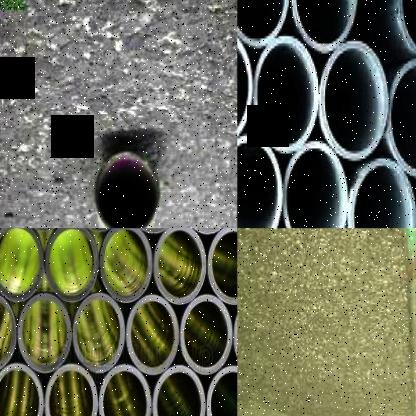pipe: (319, 41, 388, 160), (253, 36, 318, 152), (283, 143, 348, 228), (94, 150, 158, 228), (349, 159, 416, 228), (126, 294, 179, 376), (18, 292, 71, 374), (180, 294, 233, 374), (73, 292, 125, 373), (152, 228, 206, 304), (237, 135, 281, 228), (44, 228, 98, 303), (99, 228, 152, 303), (387, 57, 416, 177), (290, 0, 357, 51), (0, 228, 43, 301), (44, 363, 98, 416), (97, 364, 151, 416), (151, 365, 204, 416), (237, 0, 289, 45), (207, 228, 237, 304), (0, 362, 43, 415), (238, 29, 252, 146), (205, 365, 237, 416), (0, 292, 16, 372)
